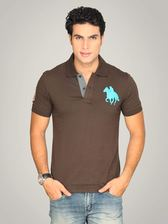clothoes: (29, 53, 144, 192)
